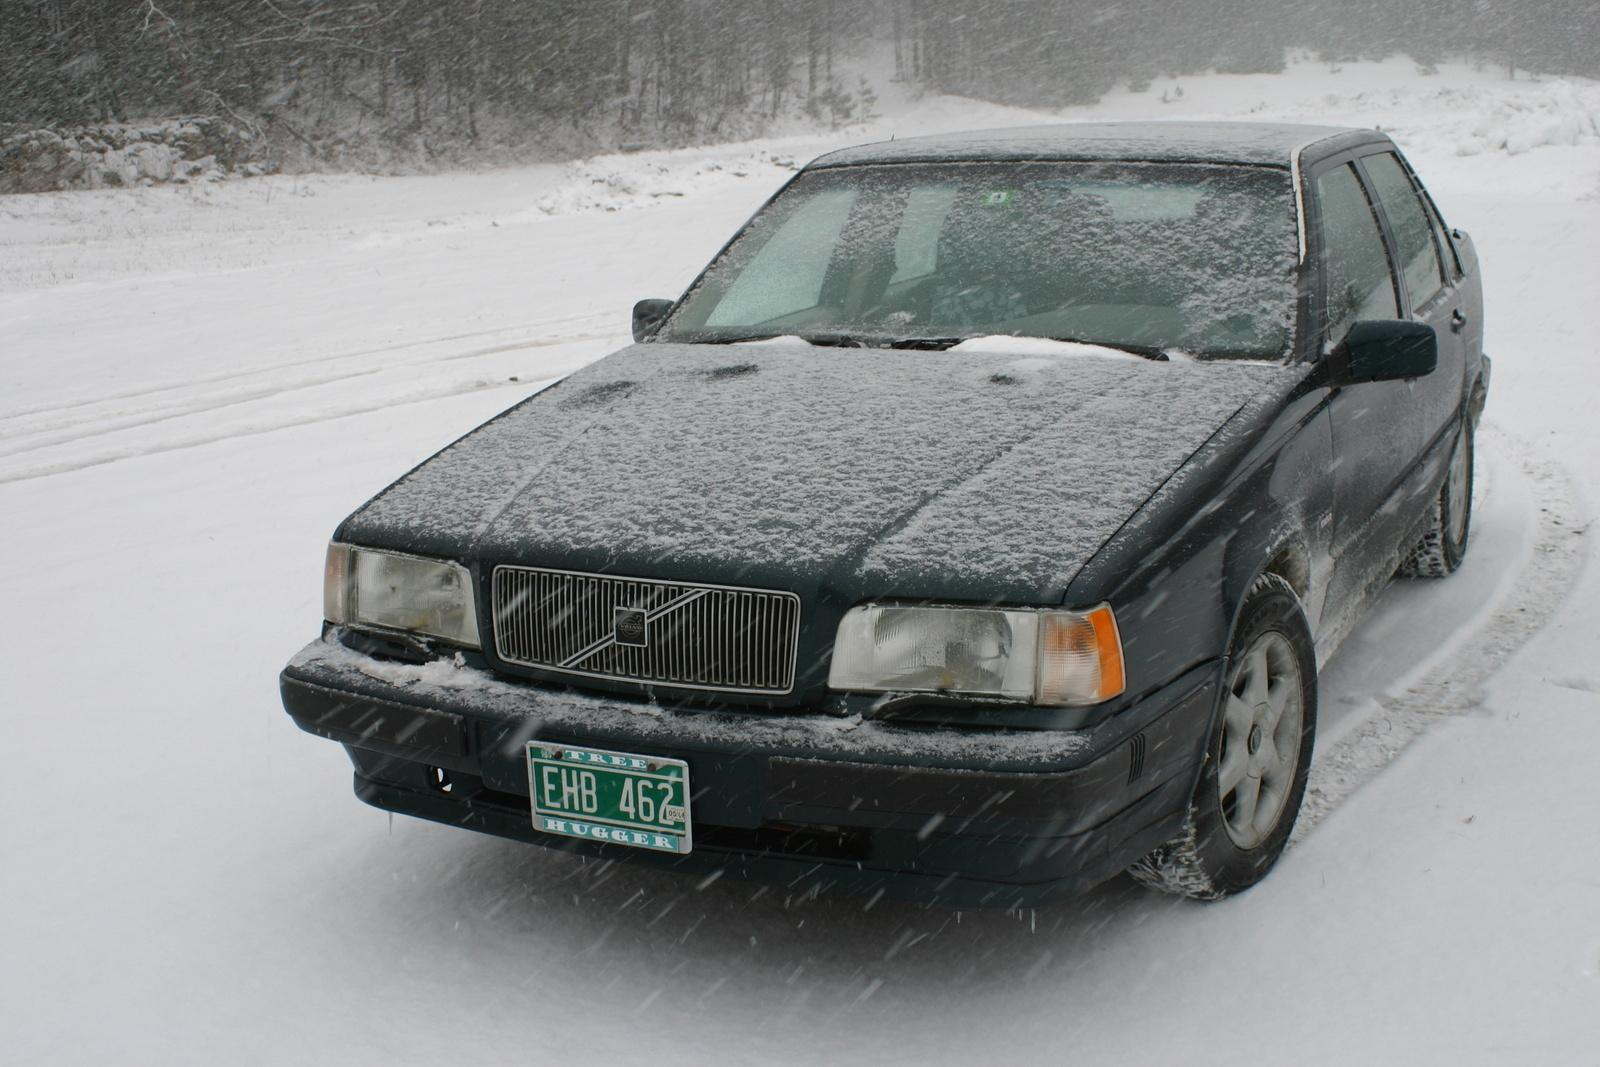volvo: (583, 580, 676, 667)
